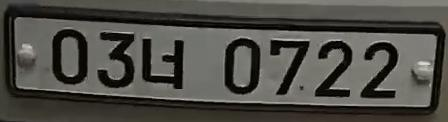0: (218, 33, 269, 97), (47, 26, 92, 87)
2: (355, 37, 404, 102), (313, 40, 356, 99)
3: (95, 27, 140, 90)
7: (265, 36, 312, 100)
너: (139, 33, 189, 95)
